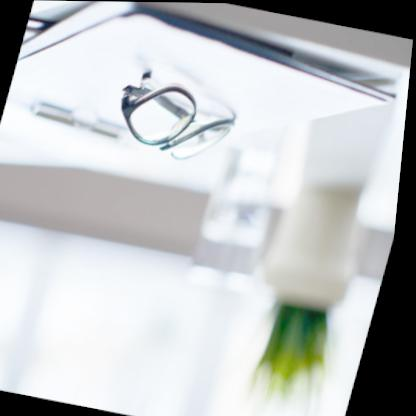Spectacles: (106, 62, 249, 171)
